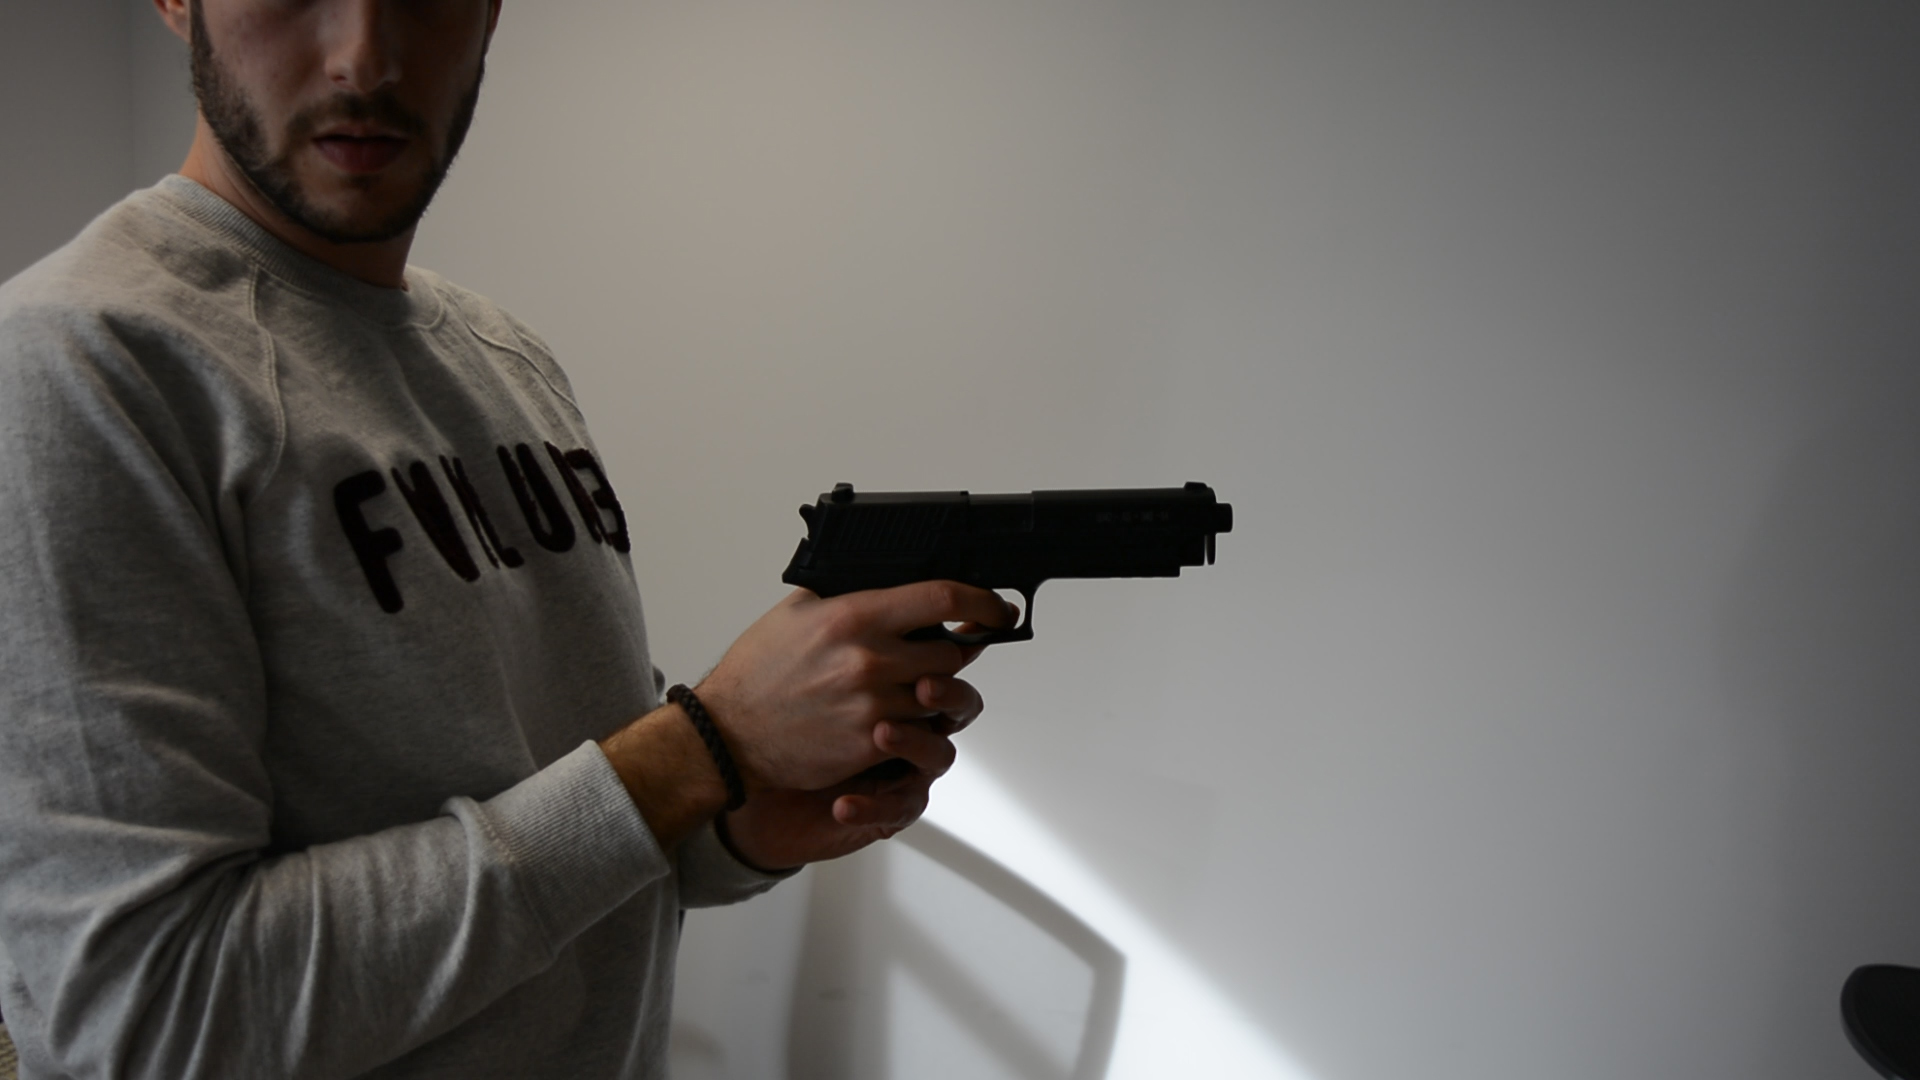pistol: (775, 479, 1236, 655)
